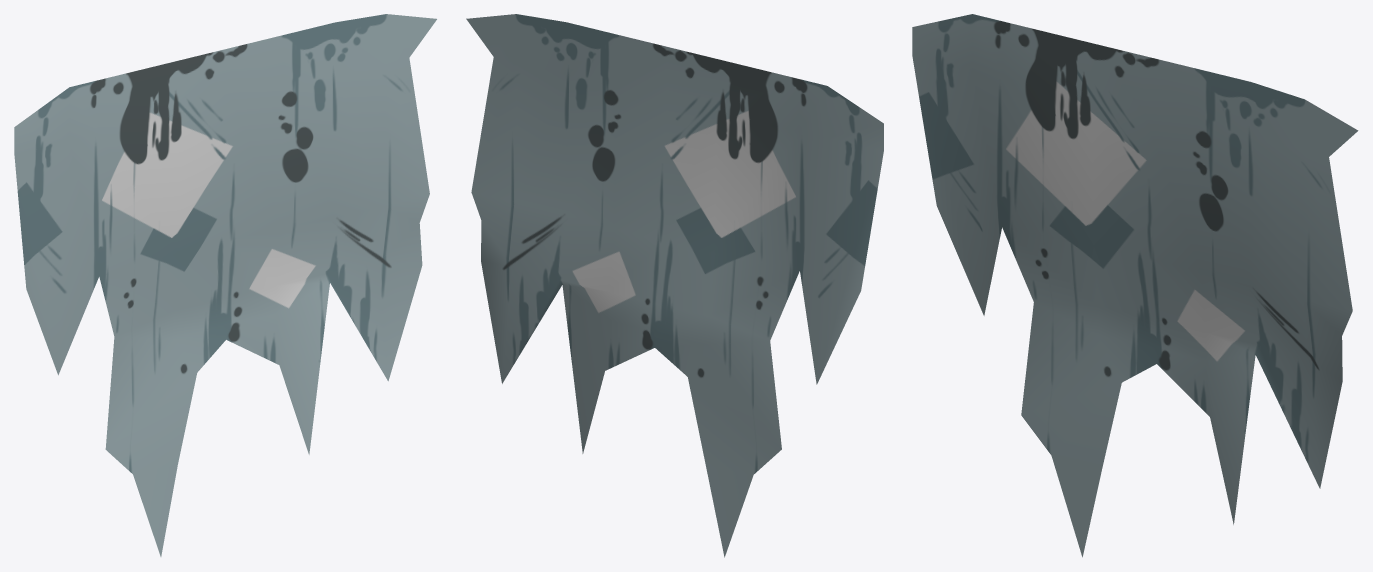
File: Flag1.glb
3 views of the same model, side by side, from view 1: azimuth 30°, elevation 25°; view 2: azimuth 150°, elevation 25°; view 3: azimuth 330°, elevation 25° (orthographic). The views are drawn at different scales.
Visible parts, largest first — view 1: Flag1; view 2: Flag1; view 3: Flag1.
Boxes of the visible parts, x1=… form: Flag1: x1=14, y1=14, x2=436, y2=556; Flag1: x1=466, y1=14, x2=883, y2=557; Flag1: x1=912, y1=14, x2=1358, y2=557.
Size of the model in its own units: 5.98 by 6.73 by 0.2997.
Materials: 1 (1 with a texture image).
